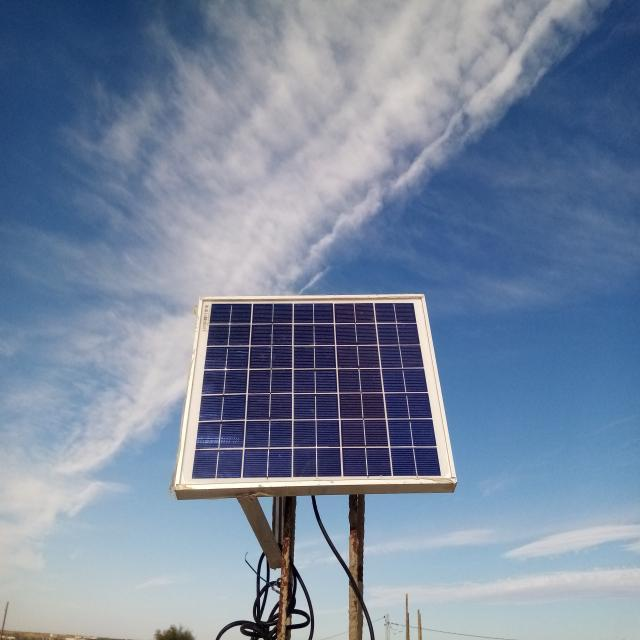Normal Solar Panel: (176, 295, 455, 488)
